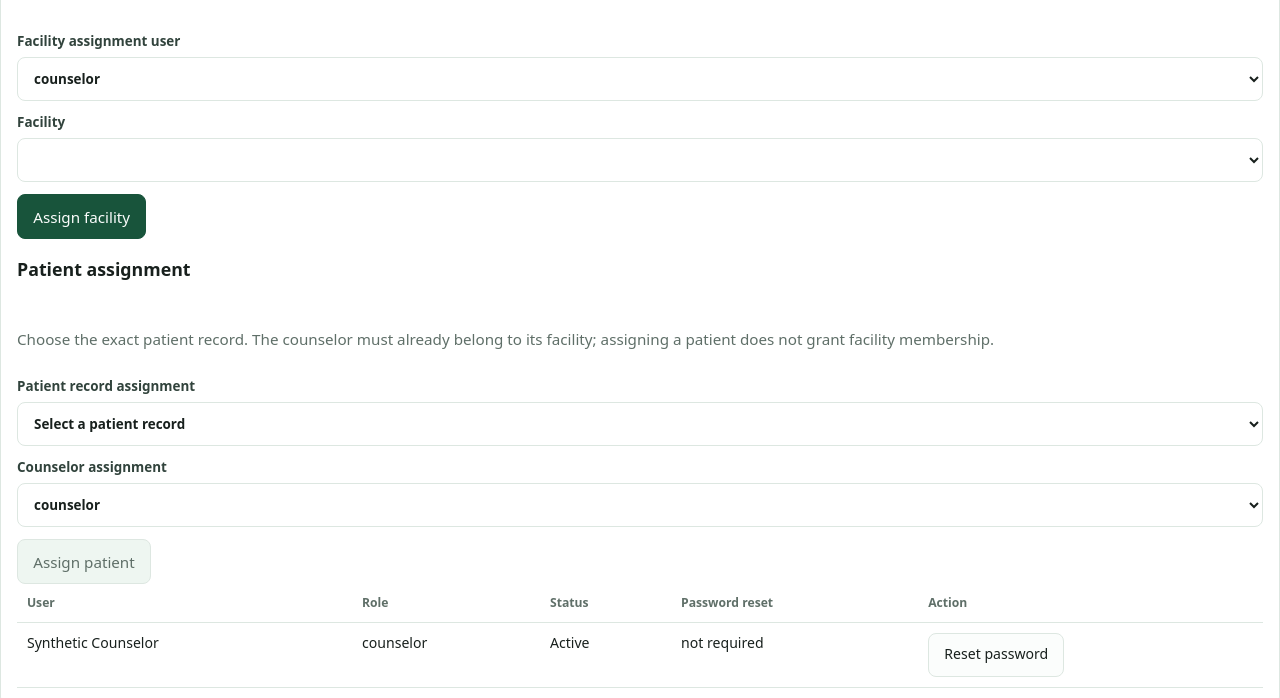
Test: patient assignment selects exact authorized row and never grants facility membership
(page scrolled)
Select "MRN-SHARED · Synthetic Manual · Manual · record 31" in the dropdown labelled "Patient record assignment": (640, 424) [17,402,1263,446]
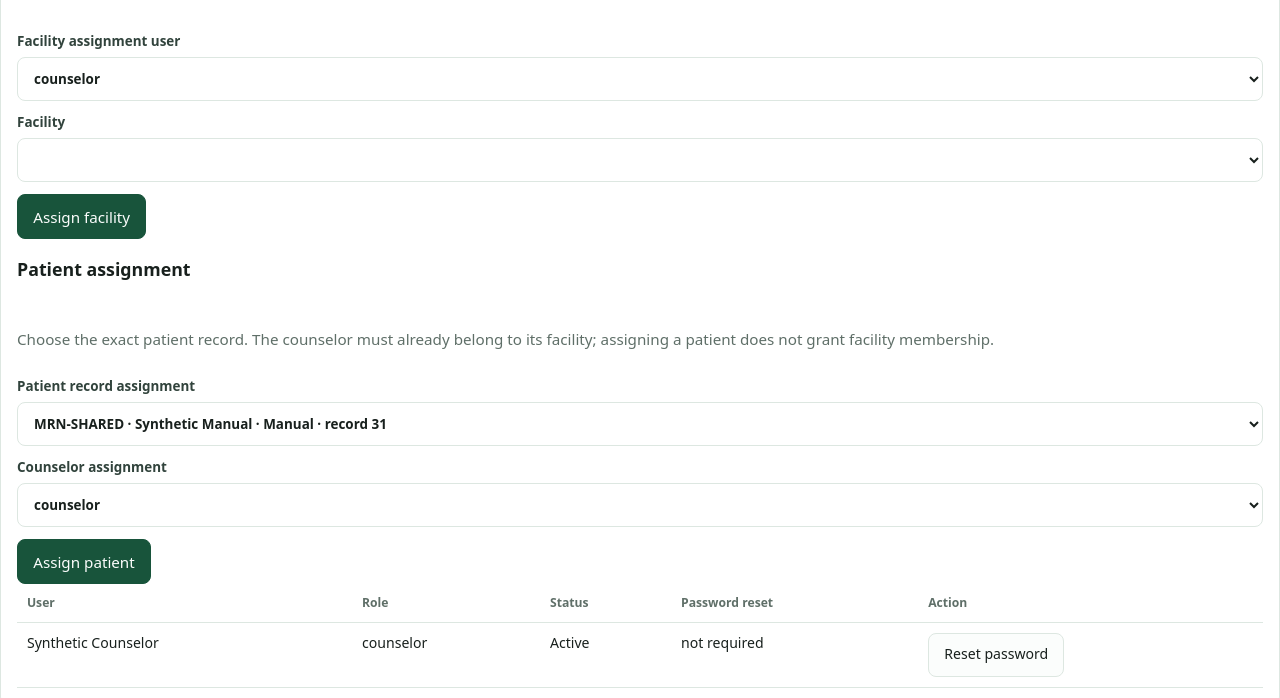
Click the button "Assign patient": (84, 562) [17,539,151,584]
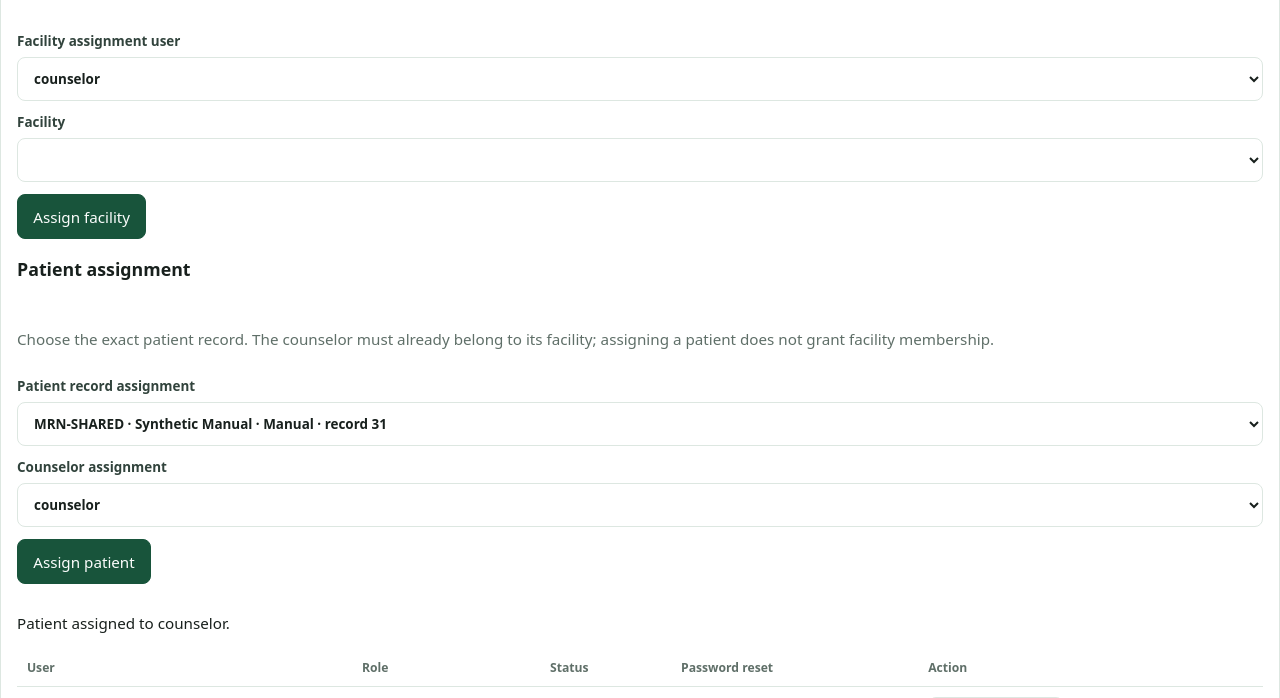
Check: the text "Patient assigned to counselor." is shown, box [17,612,230,632]
